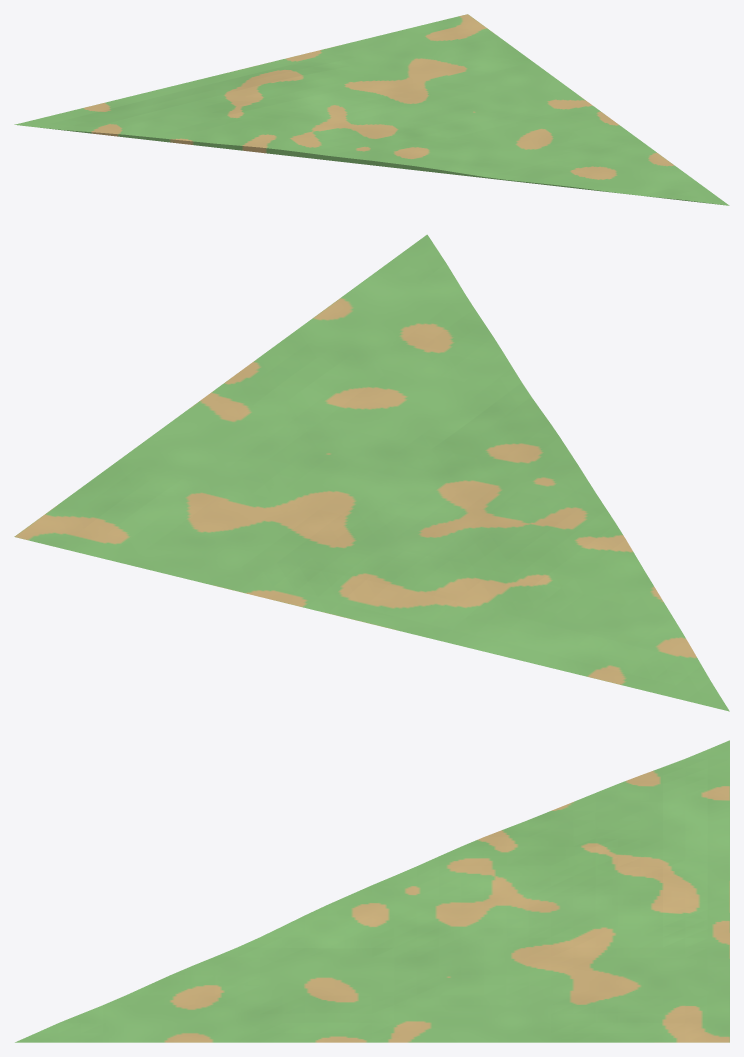
File: Grass_Flat_06_SE.obj
The picture shows the model from 3 angles, top to bottom: view 1: azimuth 30°, elevation 25°; view 2: azimuth 150°, elevation 25°; view 3: azimuth 270°, elevation 25°; orthographic projection. The views are drawn at different scales.
Size of the model in its own units: 10 by 0.1142 by 10.
Materials: 1 (1 with a texture image).
